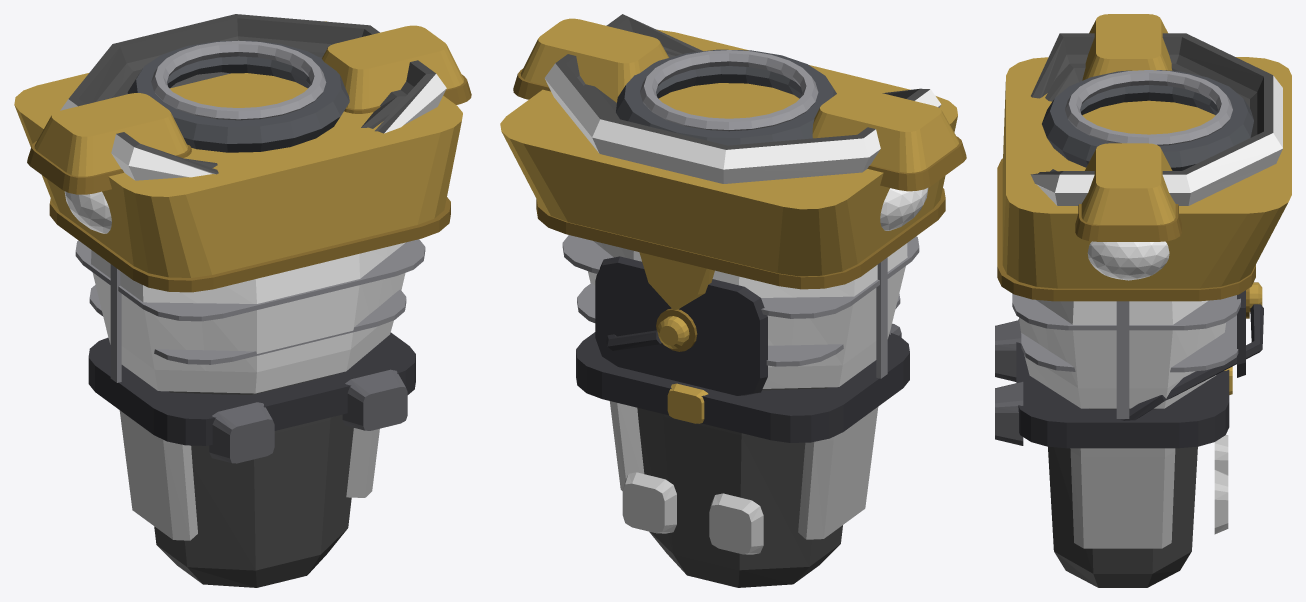
Rendered from person_thin_vge_prestige_vacsuit.obj.
3 views of the same model, side by side, from view 1: azimuth 30°, elevation 25°; view 2: azimuth 150°, elevation 25°; view 3: azimuth 270°, elevation 25° (orthographic). The views are drawn at different scales.
Visible parts, largest first — view 1: person_thin_vge_prestige_vacsuit; view 2: person_thin_vge_prestige_vacsuit; view 3: person_thin_vge_prestige_vacsuit.
Boxes of the visible parts, <box> form: person_thin_vge_prestige_vacsuit: <box>14,14,471,587</box>; person_thin_vge_prestige_vacsuit: <box>500,14,966,587</box>; person_thin_vge_prestige_vacsuit: <box>995,14,1291,587</box>.
Size of the model in its own units: 0.718 by 0.805 by 0.4732.
